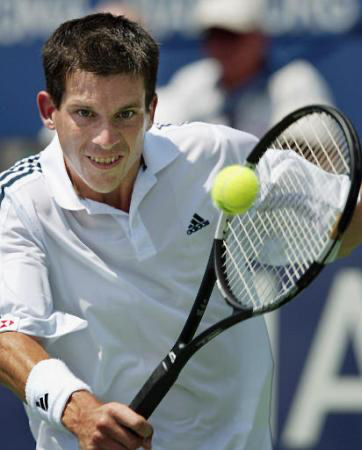Face: (62, 74, 144, 190)
